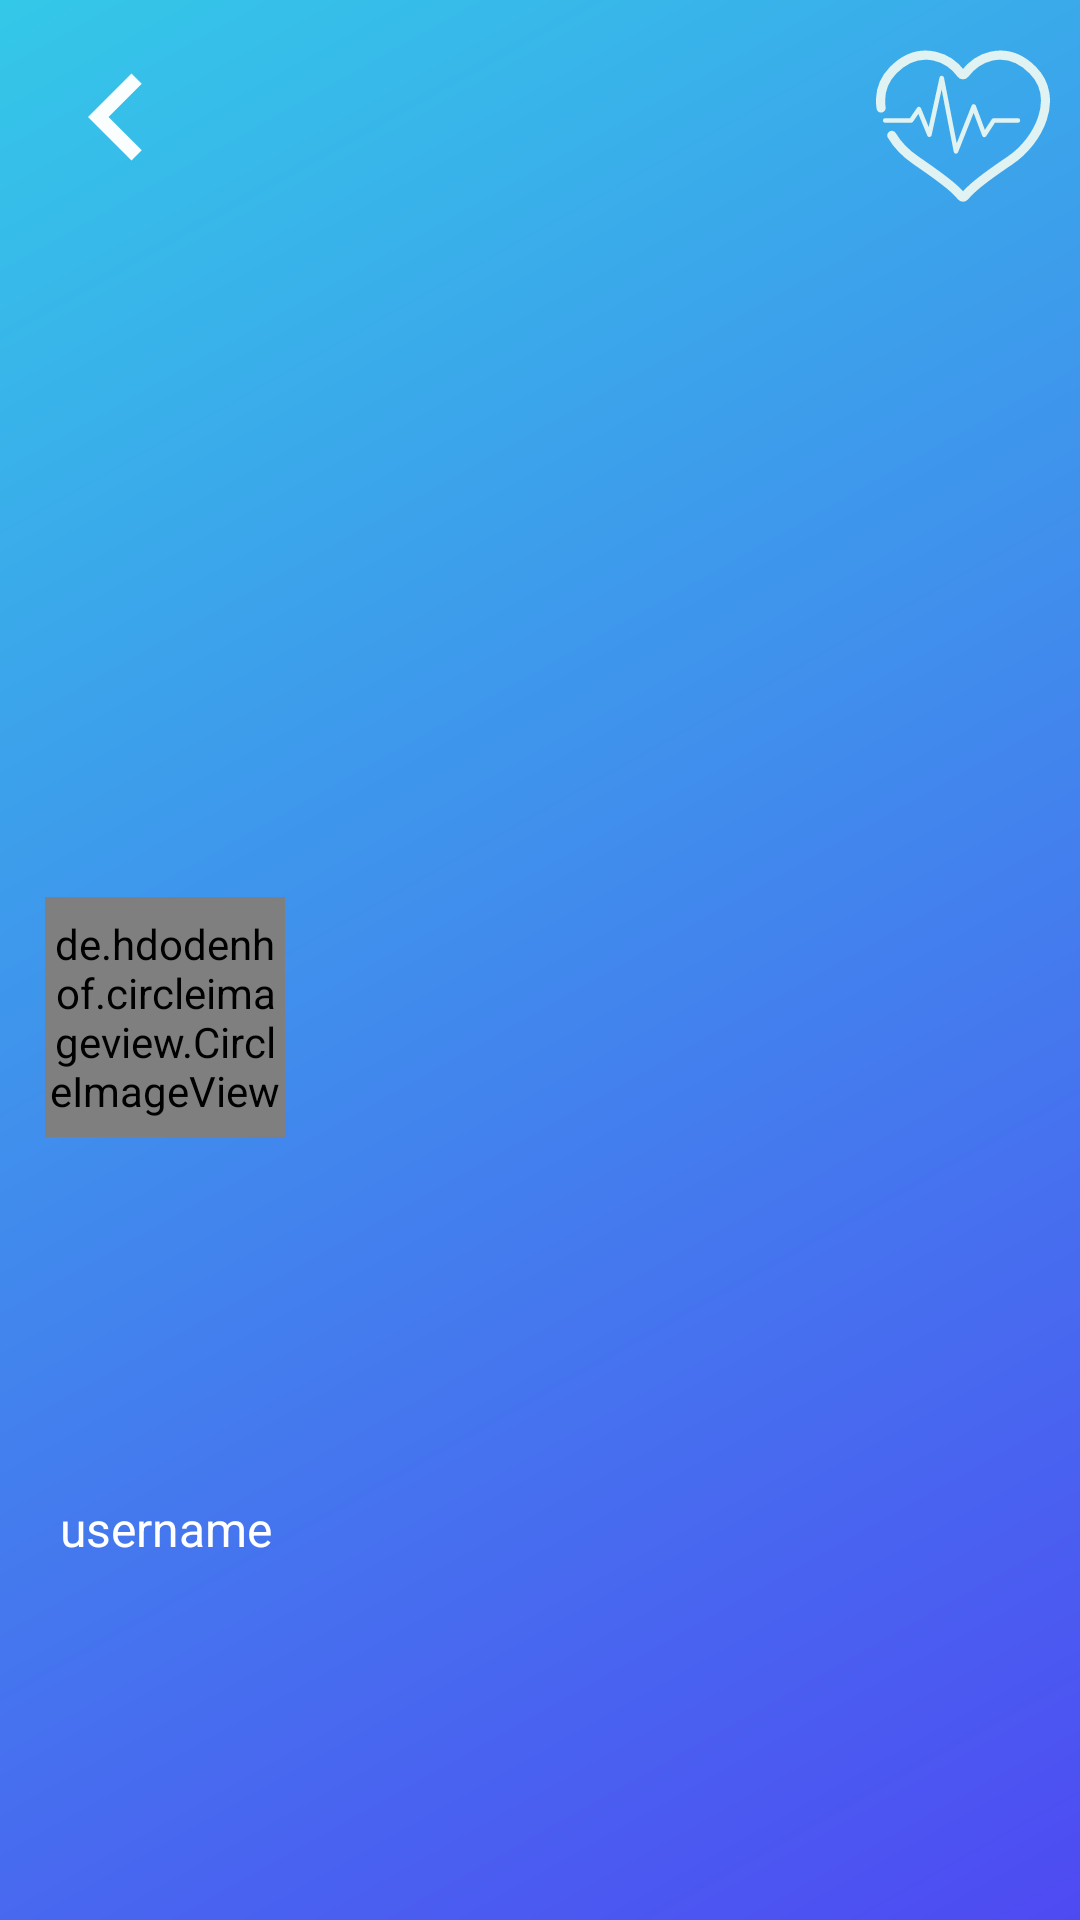

Named icons in this screenshot (1080px×1920px) and their centers, point (x, y):
left: point (115, 117)
